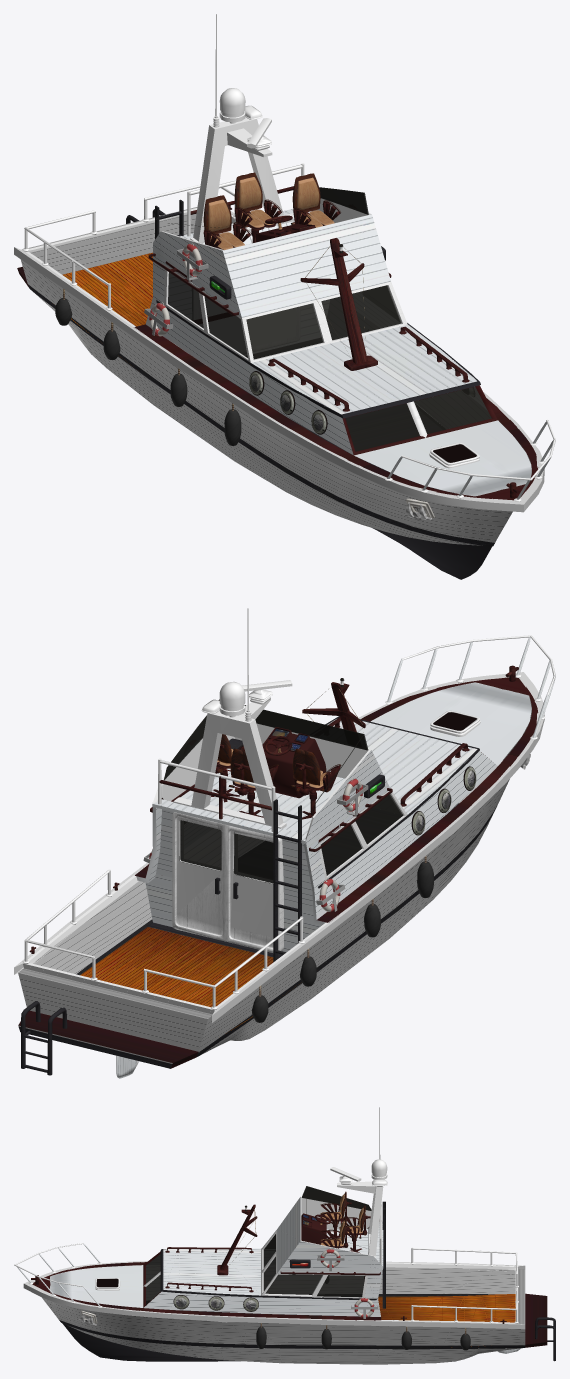
File: boat-reef-runner.glb
3 views of the same model, one above another, from view 1: azimuth 30°, elevation 25°; view 2: azimuth 150°, elevation 25°; view 3: azimuth 270°, elevation 25° (orthographic). The views are drawn at different scales.
Parts seen in each view (by area): view 1: Object_51, Object_48, Object_14, Object_18, Object_38, Object_2, Object_13, Object_20, Object_15, Object_44, Object_53, Object_41 (+2 smaller); view 2: Object_48, Object_51, Object_38, Object_18, Object_2, Object_20, Object_14, Object_13, Object_53, Object_41, Object_11, Object_15; view 3: Object_48, Object_51, Object_18, Object_2, Object_38, Object_14, Object_13, Object_15, Object_53, Object_11, Object_44, Object_41 (+1 smaller).
Boxes of the visible parts, left/top/right/bottom form: Object_51: left=146, top=209, right=554, bottom=499; Object_48: left=14, top=206, right=544, bottom=545; Object_14: left=168, top=187, right=491, bottom=451; Object_18: left=17, top=186, right=538, bottom=500; Object_38: left=22, top=14, right=555, bottom=501; Object_2: left=28, top=199, right=494, bottom=579; Object_13: left=62, top=252, right=152, bottom=332; Object_20: left=192, top=289, right=299, bottom=353; Object_15: left=164, top=264, right=427, bottom=437; Object_44: left=208, top=177, right=334, bottom=249; Object_53: left=55, top=298, right=368, bottom=445; Object_41: left=203, top=172, right=340, bottom=241; Object_48: left=14, top=672, right=544, bottom=1063; Object_51: left=116, top=636, right=555, bottom=1078; Object_38: left=22, top=608, right=555, bottom=1010; Object_18: left=18, top=665, right=538, bottom=1068; Object_2: left=18, top=716, right=497, bottom=1075; Object_20: left=172, top=812, right=283, bottom=952; Object_14: left=164, top=699, right=475, bottom=883; Object_13: left=80, top=927, right=295, bottom=1030; Object_53: left=251, top=861, right=433, bottom=1022; Object_41: left=217, top=734, right=341, bottom=792; Object_11: left=411, top=712, right=476, bottom=835; Object_15: left=184, top=791, right=407, bottom=880; Object_48: left=23, top=1261, right=525, bottom=1364; Object_51: left=17, top=1197, right=520, bottom=1353; Object_18: left=31, top=1200, right=547, bottom=1347; Object_2: left=59, top=1201, right=555, bottom=1361; Object_38: left=14, top=1107, right=518, bottom=1323; Object_14: left=146, top=1186, right=371, bottom=1309; Object_13: left=378, top=1294, right=515, bottom=1347; Object_15: left=143, top=1229, right=367, bottom=1298; Object_53: left=256, top=1276, right=470, bottom=1350; Object_11: left=96, top=1278, right=258, bottom=1311; Object_44: left=320, top=1194, right=363, bottom=1246; Object_41: left=320, top=1191, right=366, bottom=1248.
Bounding box in the file's own units: 2.35 × 4.36 × 8.58.
Materials: 31 (28 with a texture image).
